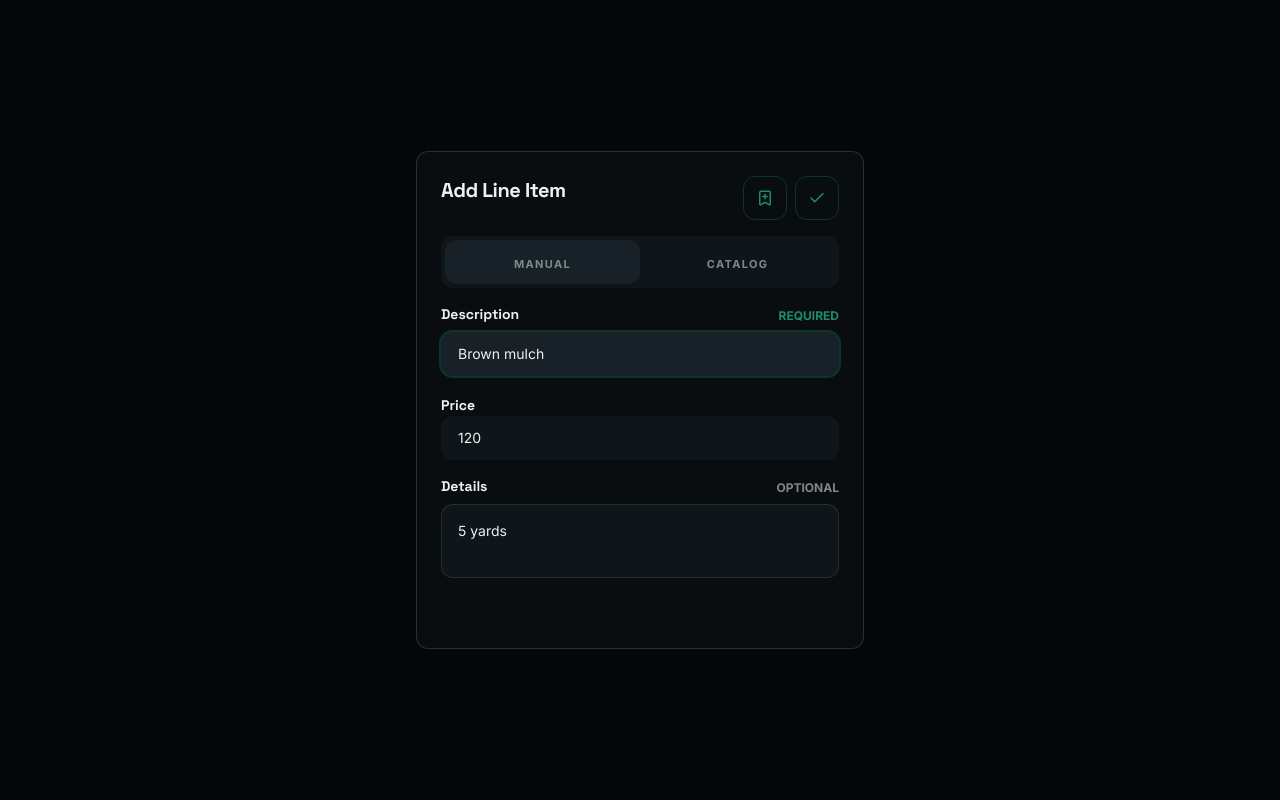
LineItemEditSheet › successful save shows filled bookmark icon and item in catalog tab list in same open
Expected: the icon with class "lucide-bookmark-plus" is shown, [756, 189, 774, 207]
Step 1. Replace the text in the field labelled "Description" with "  Garden edging  " → [640, 354], box [458, 344, 822, 364]
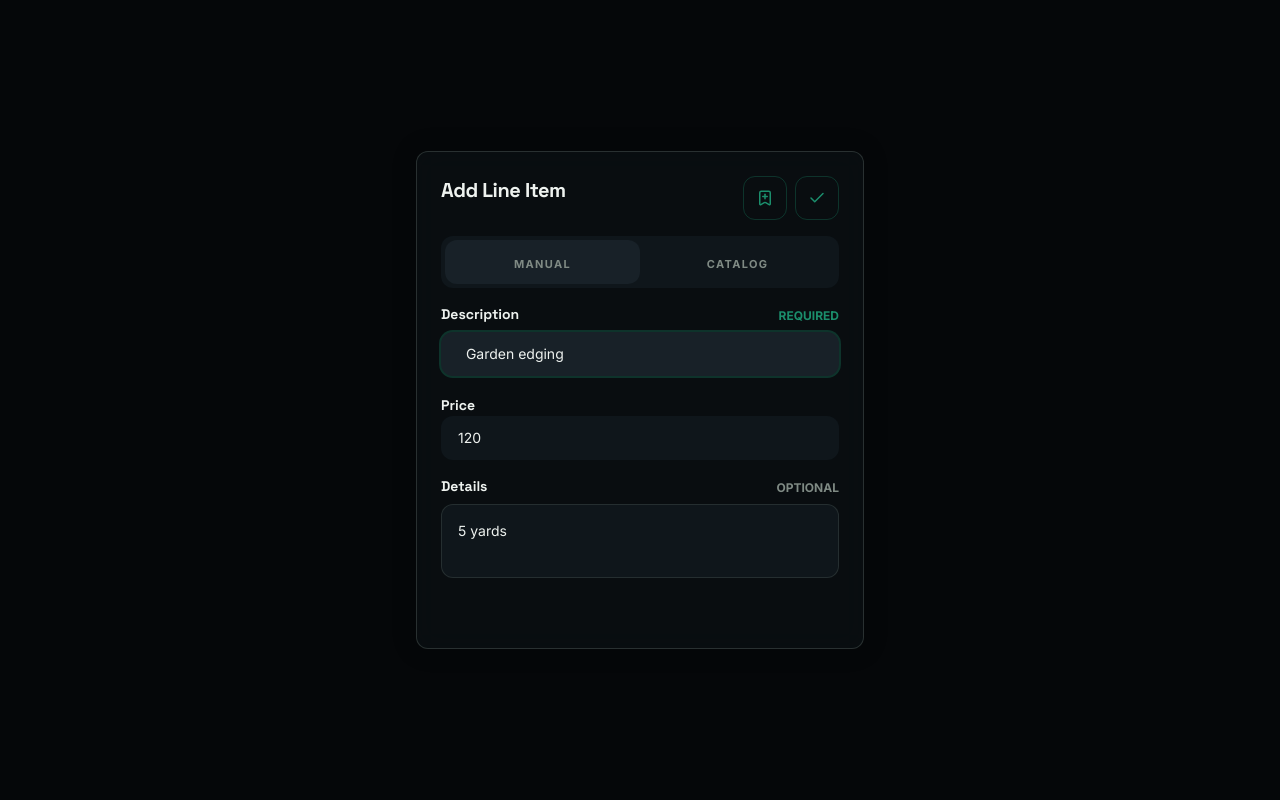
Step 2. Replace the text in the text box labelled "Details" with "  Around driveway  " → [640, 541], box [441, 504, 839, 578]
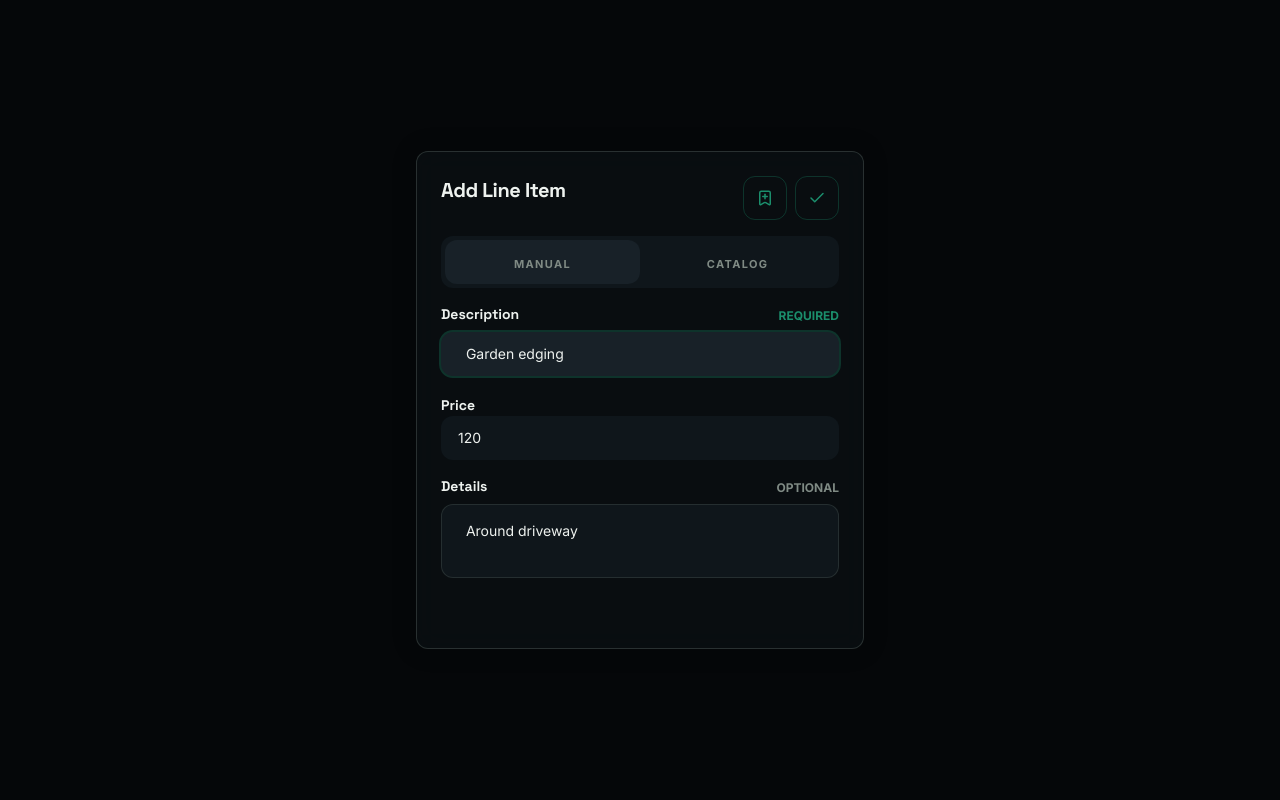
Step 3. Replace the text in the field labelled "Price" with "95.5" → [640, 438], box [458, 428, 822, 448]
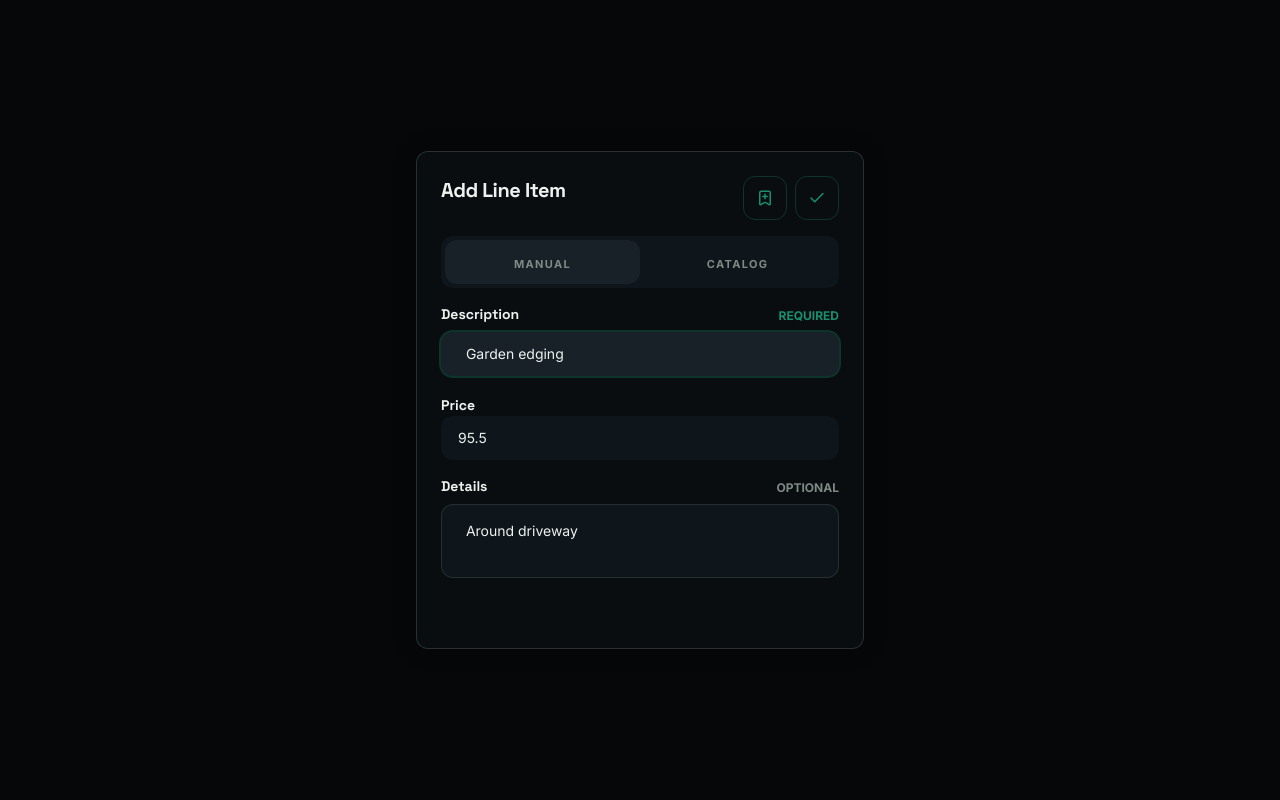
Step 4. Click the button named "save to catalog" → [765, 198], box [743, 176, 787, 220]
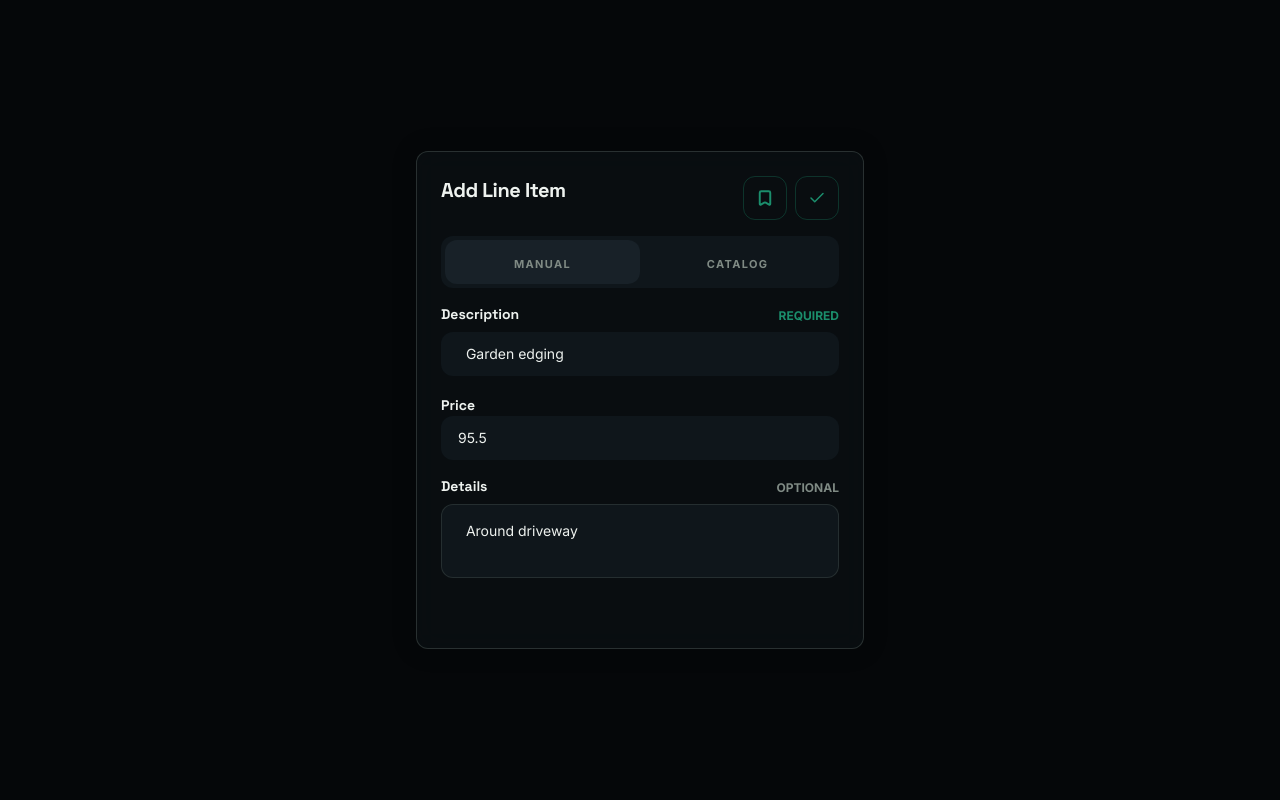
Expected: the icon with class "lucide-bookmark" is shown, [756, 189, 774, 207]
Step 5. Click the tab "Catalog" → [738, 262], box [640, 240, 835, 284]
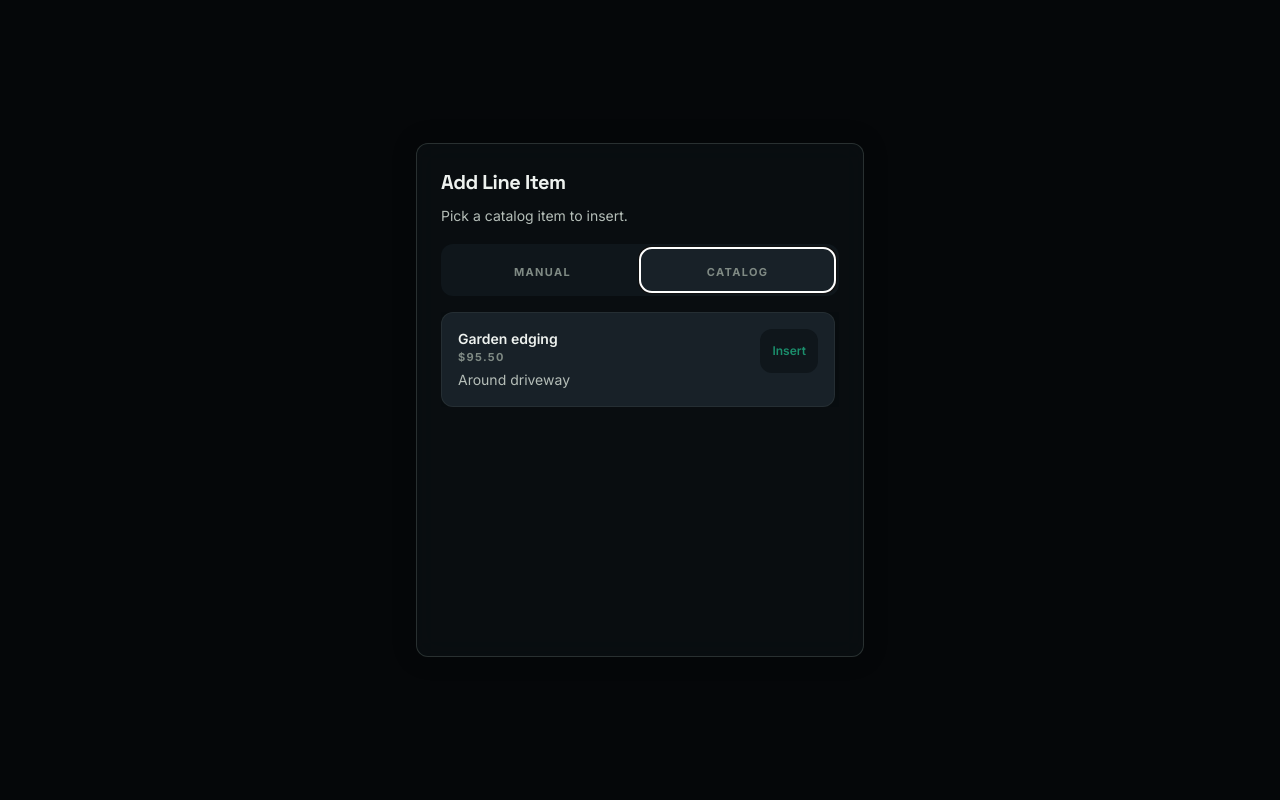
Expected: the text "Garden edging" is shown, [458, 329, 570, 349]
